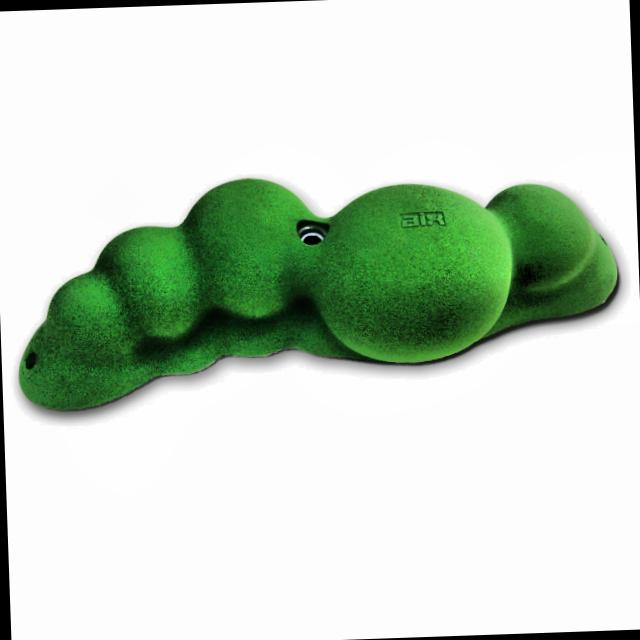Hold: (15, 162, 619, 420)
